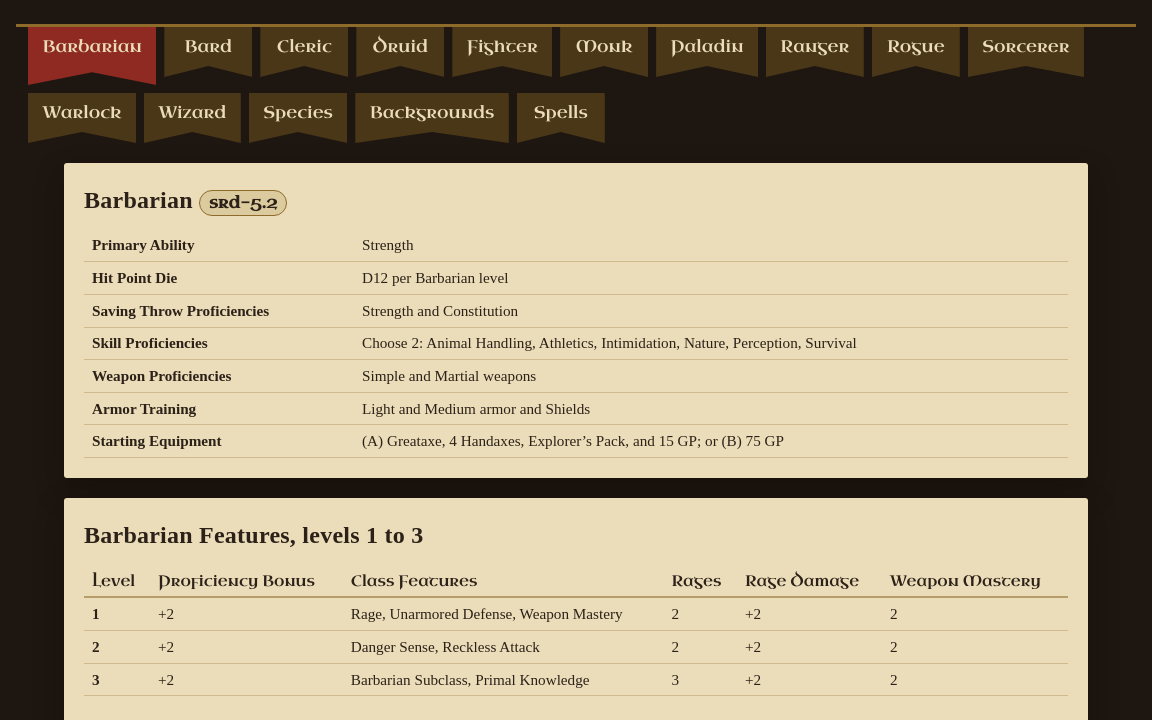
Test: /dev/classes › shows the imported backgrounds on their own tab, with each Origin feat’s text
Click the tab "Backgrounds".
click(432, 118)  # box [355, 93, 509, 143]
(page scrolled)
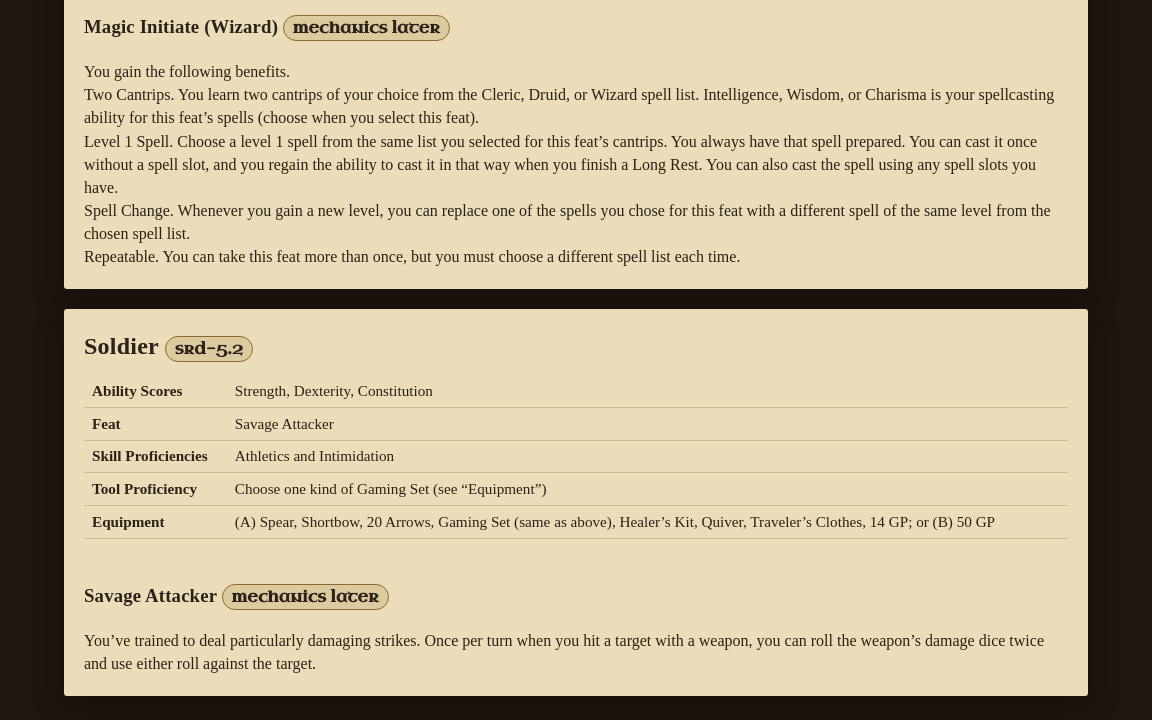
expect the row "Ability Scores Strength, Dexterity, Constitution" is shown: met, box [84, 375, 1068, 408]
expect the row "Skill Proficiencies Athletics and Intimidation" is shown: met, box [84, 440, 1068, 473]
expect the element named "Feat: Savage Attacker" shows "roll the weapon’s damage dice twice": met, box [84, 632, 1044, 672]
